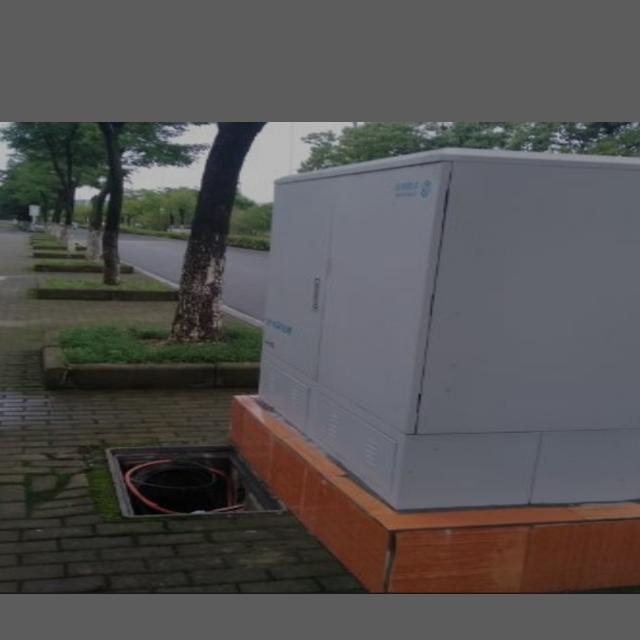lose: (107, 443, 291, 519)
